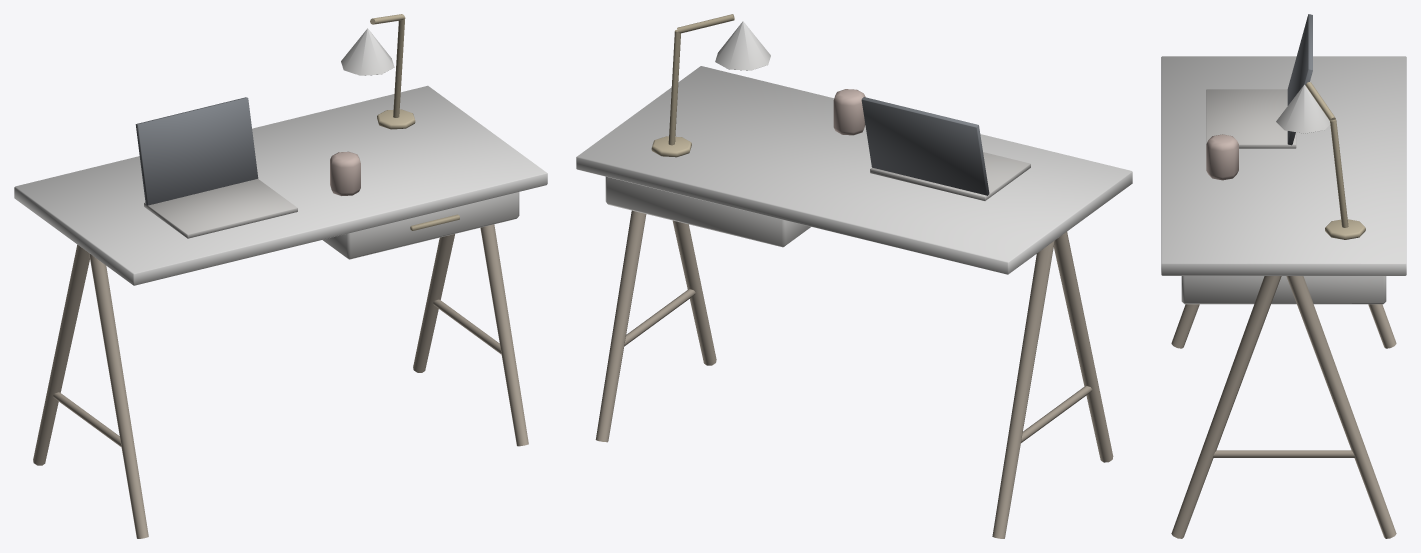
The model's file is white_desk.glb.
3 views of the same model, side by side, from view 1: azimuth 30°, elevation 25°; view 2: azimuth 150°, elevation 25°; view 3: azimuth 270°, elevation 25° (orthographic). The views are drawn at different scales.
Visible parts, largest first — view 1: white_desk; view 2: white_desk; view 3: white_desk.
Part boxes in pixels (x1=…): white_desk: x1=14, y1=14, x2=547, y2=538; white_desk: x1=576, y1=14, x2=1132, y2=538; white_desk: x1=1161, y1=14, x2=1406, y2=538.
Bounding box in the file's own units: 1.2 × 1.11 × 0.6.
